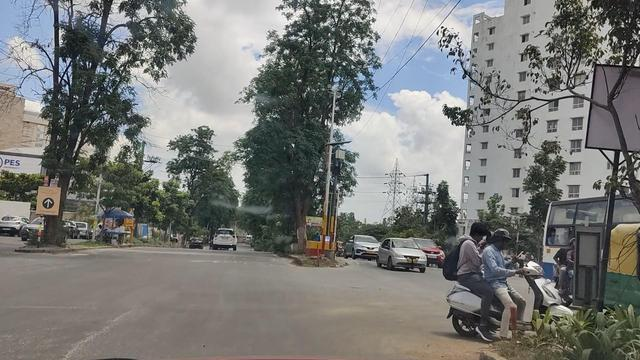RoadDamages: (70, 297, 144, 358)
